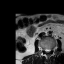CCS_severe_stenosis: (46, 46, 48, 54)
LFS_normal: (50, 46, 53, 52)
LLS_normal: (48, 46, 50, 53)
RFS_normal: (42, 45, 44, 52)
RLS_normal: (44, 46, 46, 54)
